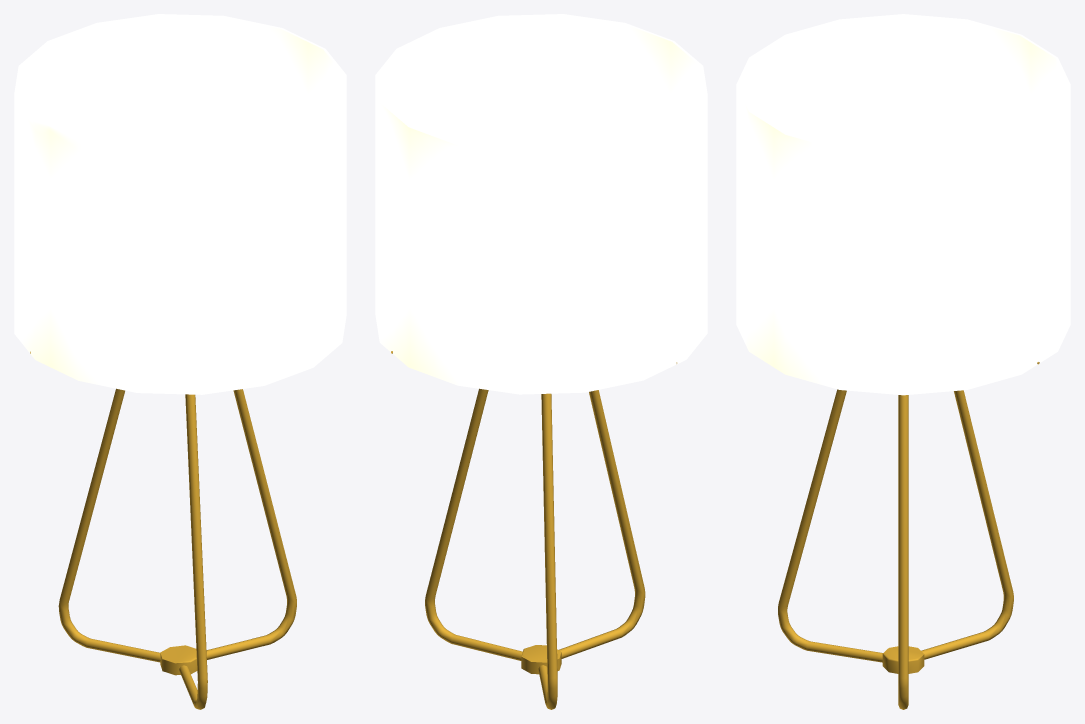
File: Lights_Table_Lamps_3.fbx
3 views of the same model, side by side, from view 1: azimuth 30°, elevation 25°; view 2: azimuth 150°, elevation 25°; view 3: azimuth 270°, elevation 25° (orthographic).
Visible parts, largest first — view 1: Cylinder.024; view 2: Cylinder.024; view 3: Cylinder.024.
Part boxes in pixels (x1=…): Cylinder.024: x1=14, y1=14, x2=346, y2=709; Cylinder.024: x1=375, y1=14, x2=707, y2=709; Cylinder.024: x1=736, y1=14, x2=1070, y2=709.
Size of the model in its own units: 35.57 by 68.2 by 35.57.
